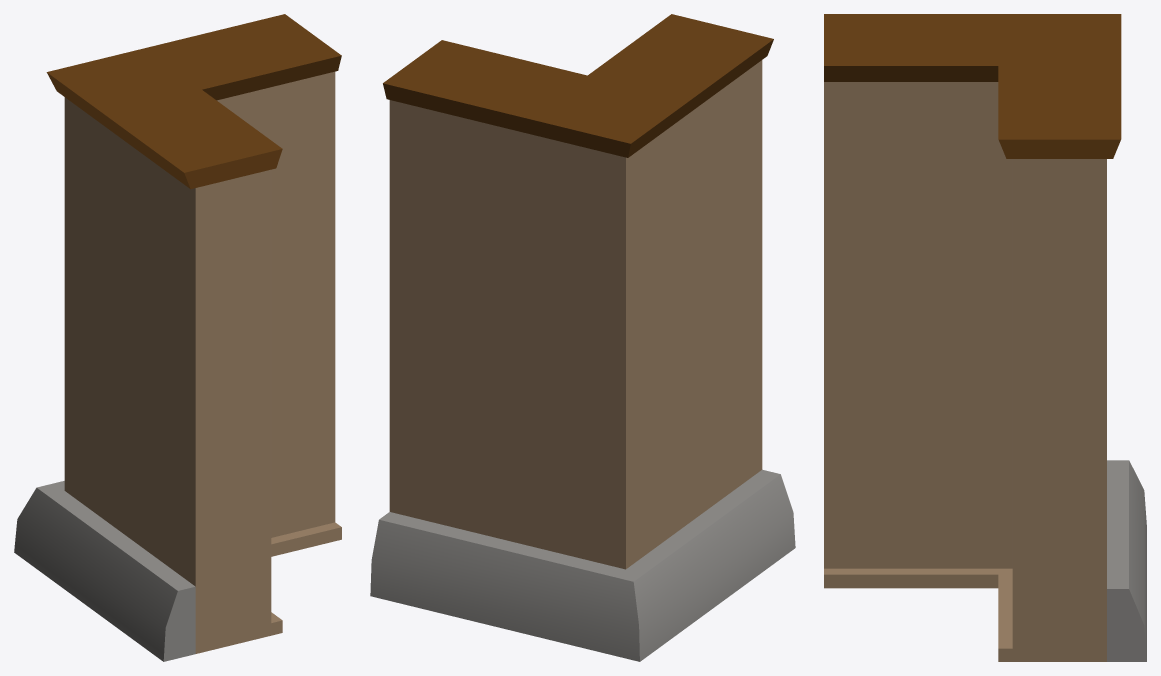
File: SM_Wall_Corner_Outer.fbx
The picture shows the model from 3 angles, left to right: view 1: azimuth 30°, elevation 25°; view 2: azimuth 150°, elevation 25°; view 3: azimuth 270°, elevation 25°; orthographic projection. The views are drawn at different scales.
Parts seen in each view (by area): view 1: SM_Wall_Corner_Outer; view 2: SM_Wall_Corner_Outer; view 3: SM_Wall_Corner_Outer.
Boxes of the visible parts, x1,y1,x2,y2 form: SM_Wall_Corner_Outer: (14,14,341,661); SM_Wall_Corner_Outer: (370,14,795,661); SM_Wall_Corner_Outer: (824,14,1146,661).
Bounding box in the file's own units: 171 × 306 × 171.
